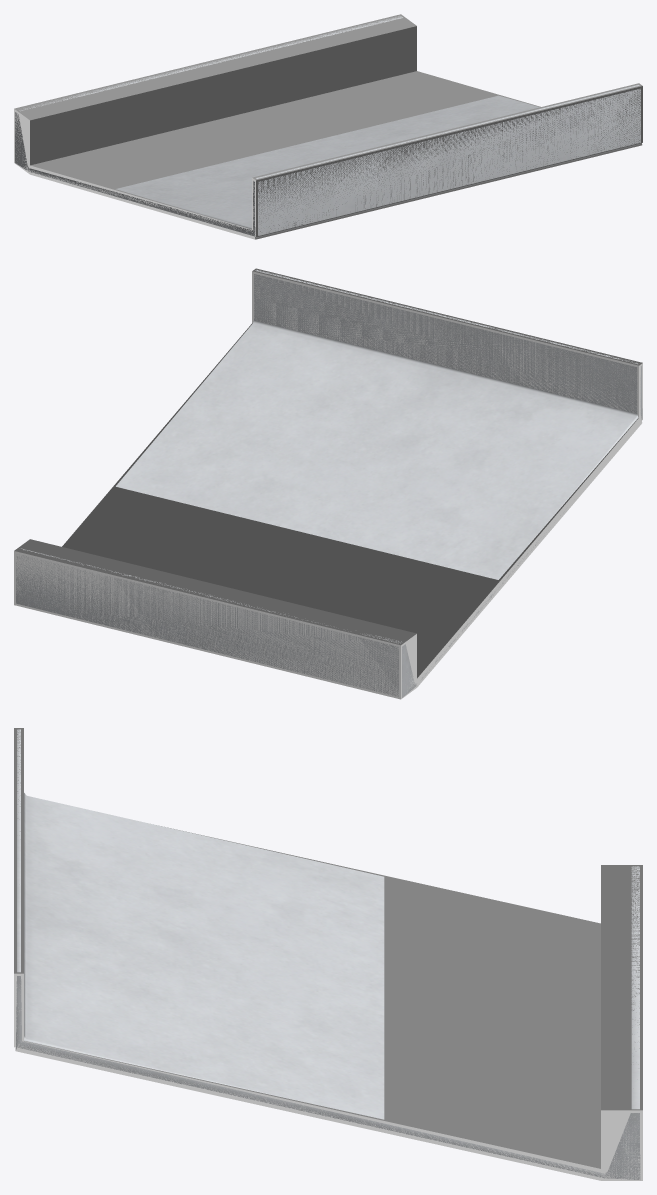
The model's file is SM_Metal_Tray_01a.fbx.
The picture shows the model from 3 angles, top to bottom: view 1: azimuth 30°, elevation 25°; view 2: azimuth 150°, elevation 25°; view 3: azimuth 270°, elevation 25°; orthographic projection. The views are drawn at different scales.
Parts seen in each view (by area): view 1: SM_Metal_Tray_01a_ConvexHulls, SM_Metal_Tray_01a; view 2: SM_Metal_Tray_01a, SM_Metal_Tray_01a_ConvexHulls; view 3: SM_Metal_Tray_01a, SM_Metal_Tray_01a_ConvexHulls.
Part boxes in pixels (bbox=[...]): SM_Metal_Tray_01a_ConvexHulls: bbox=[14, 14, 642, 239]; SM_Metal_Tray_01a: bbox=[15, 15, 640, 237]; SM_Metal_Tray_01a: bbox=[16, 270, 642, 697]; SM_Metal_Tray_01a_ConvexHulls: bbox=[14, 268, 642, 699]; SM_Metal_Tray_01a: bbox=[16, 729, 640, 1179]; SM_Metal_Tray_01a_ConvexHulls: bbox=[14, 728, 642, 1180].
Size of the model in its own units: 80 by 86.64 by 31.52.
2 materials, 1 textured.
